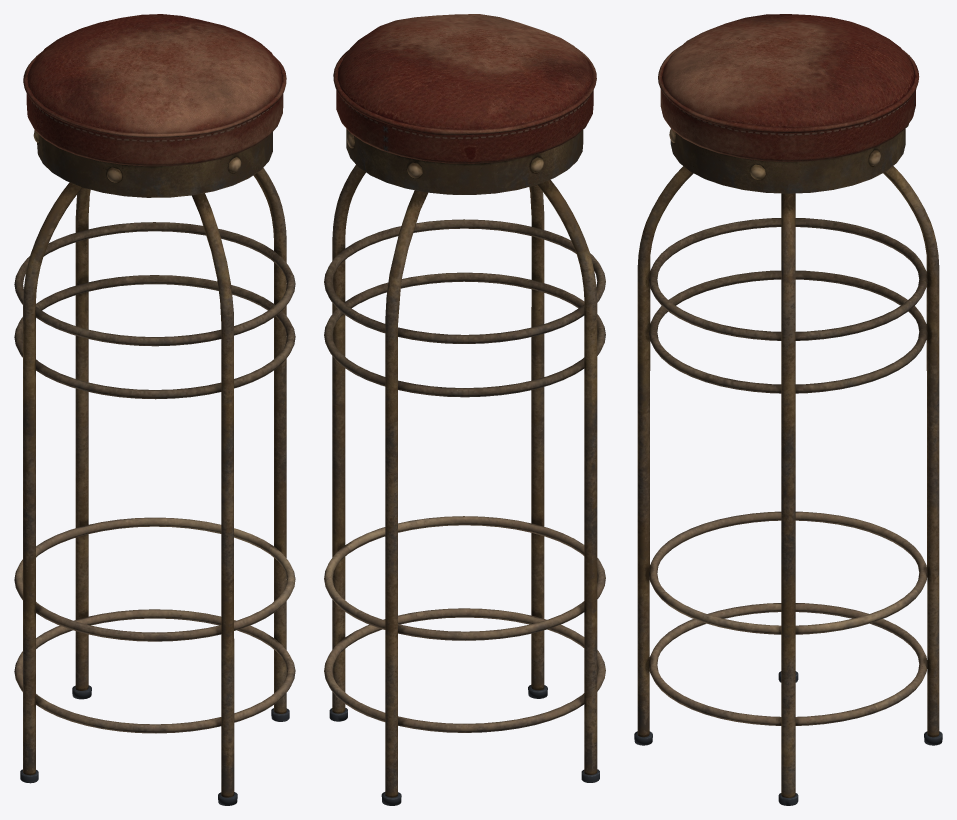
Rendered from metal_stool_01.glb.
The picture shows the model from 3 angles, left to right: view 1: azimuth 30°, elevation 25°; view 2: azimuth 150°, elevation 25°; view 3: azimuth 270°, elevation 25°; orthographic projection.
Visible parts, largest first — view 1: metal_stool_01; view 2: metal_stool_01; view 3: metal_stool_01.
Boxes of the visible parts, box(x1,y1,x2,y2) form: metal_stool_01: box(14, 14, 295, 805); metal_stool_01: box(324, 14, 605, 805); metal_stool_01: box(634, 14, 942, 805).
Size of the model in its own units: 0.352 by 0.8828 by 0.3546.
Materials: 1 (1 with a texture image).
